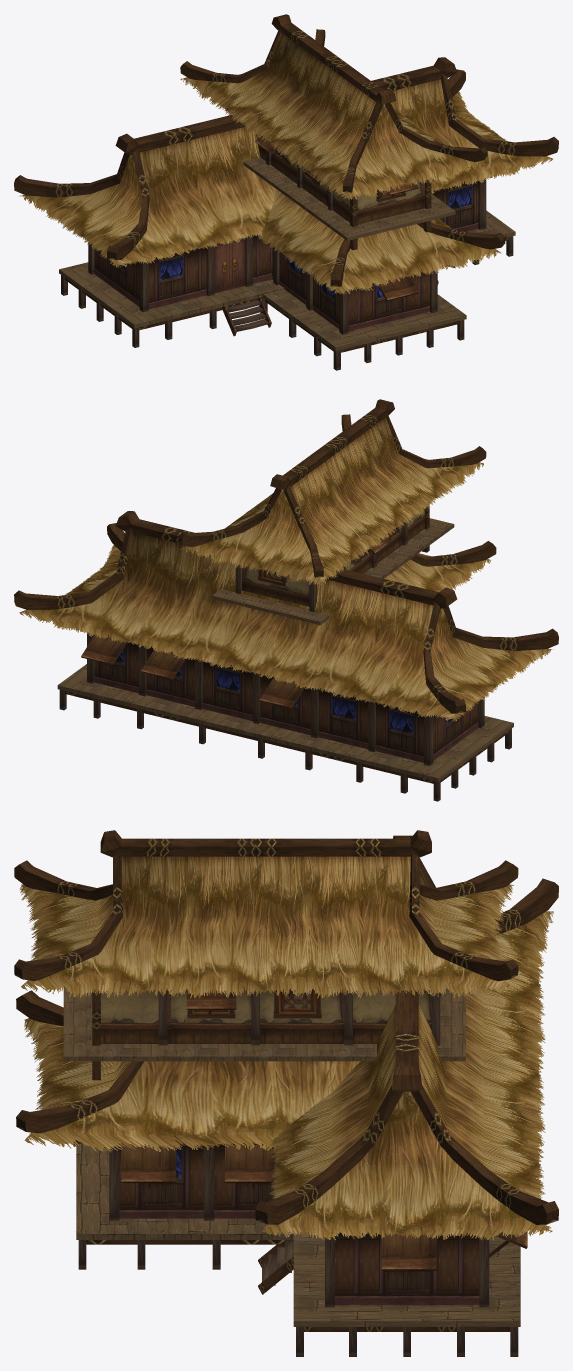
Rendered from environment_Building_diaojiaolou_001_e.FBX.
3 views of the same model, one above another, from view 1: azimuth 30°, elevation 25°; view 2: azimuth 150°, elevation 25°; view 3: azimuth 270°, elevation 25° (orthographic). The views are drawn at different scales.
Parts seen in each view (by area): view 1: environment_Building_diaojiaolou_001_e04, environment_Building_diaojiaolou_001_e03, environment_Building_diaojiaolou_001_e06, environment_Building_diaojiaolou_001_e01, environment_Building_diaojiaolou_001_e05, environment_Building_diaojiaolou_001_e02; view 2: environment_Building_diaojiaolou_001_e04, environment_Building_diaojiaolou_001_e03, environment_Building_diaojiaolou_001_e01, environment_Building_diaojiaolou_001_e06, environment_Building_diaojiaolou_001_e05; view 3: environment_Building_diaojiaolou_001_e04, environment_Building_diaojiaolou_001_e03, environment_Building_diaojiaolou_001_e06, environment_Building_diaojiaolou_001_e05, environment_Building_diaojiaolou_001_e01, environment_Building_diaojiaolou_001_e07.
Part boxes in pixels (<box>): environment_Building_diaojiaolou_001_e04: <box>20,32,552,294</box>; environment_Building_diaojiaolou_001_e03: <box>14,14,558,370</box>; environment_Building_diaojiaolou_001_e06: <box>59,157,515,350</box>; environment_Building_diaojiaolou_001_e01: <box>94,181,478,331</box>; environment_Building_diaojiaolou_001_e05: <box>254,130,454,301</box>; environment_Building_diaojiaolou_001_e02: <box>214,237,245,293</box>; environment_Building_diaojiaolou_001_e04: <box>19,417,553,721</box>; environment_Building_diaojiaolou_001_e03: <box>14,399,558,801</box>; environment_Building_diaojiaolou_001_e01: <box>94,635,478,762</box>; environment_Building_diaojiaolou_001_e06: <box>57,518,513,781</box>; environment_Building_diaojiaolou_001_e05: <box>81,507,424,710</box>; environment_Building_diaojiaolou_001_e04: <box>20,856,553,1240</box>; environment_Building_diaojiaolou_001_e03: <box>14,830,558,1356</box>; environment_Building_diaojiaolou_001_e06: <box>63,986,520,1326</box>; environment_Building_diaojiaolou_001_e05: <box>73,987,527,1271</box>; environment_Building_diaojiaolou_001_e01: <box>119,1140,479,1305</box>; environment_Building_diaojiaolou_001_e07: <box>192,988,316,1012</box>.
Bounding box in the file's own units: 3249 × 2258 × 1765.
